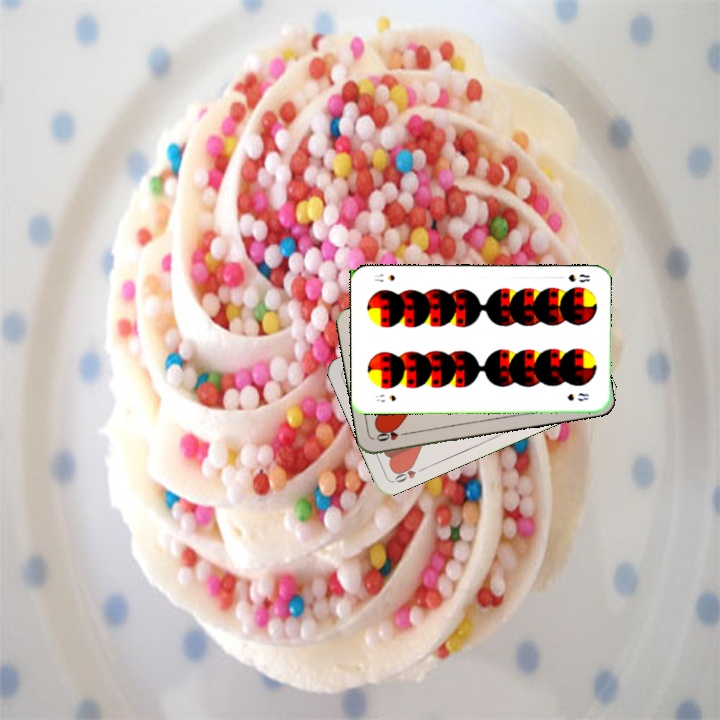HO: (389, 460, 428, 485), (372, 427, 412, 444)
S8: (564, 270, 592, 285), (371, 390, 398, 405)
